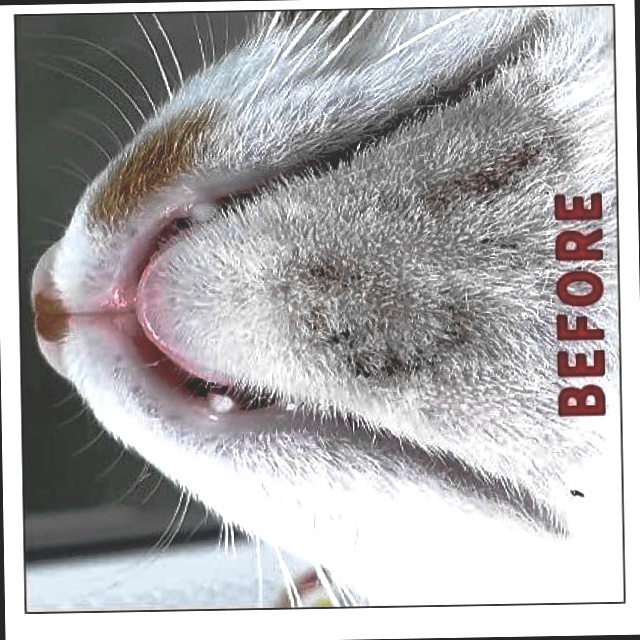acne: (288, 218, 525, 377)
